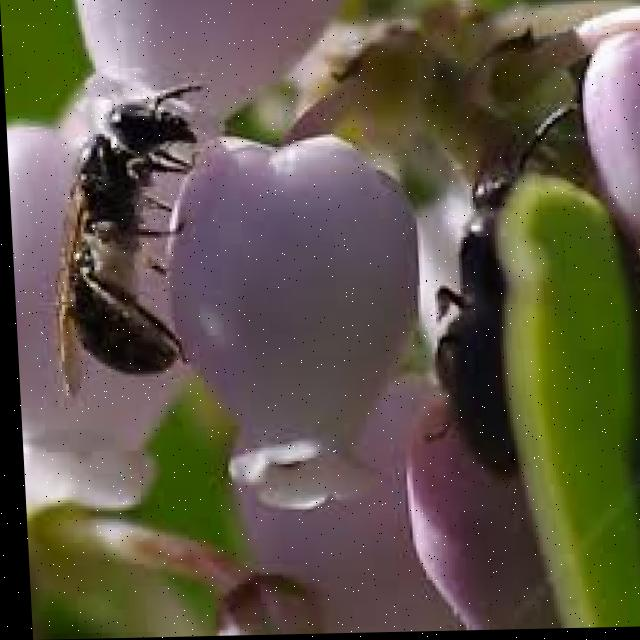Lasioglossum: (22, 73, 244, 421), (428, 104, 550, 492)
